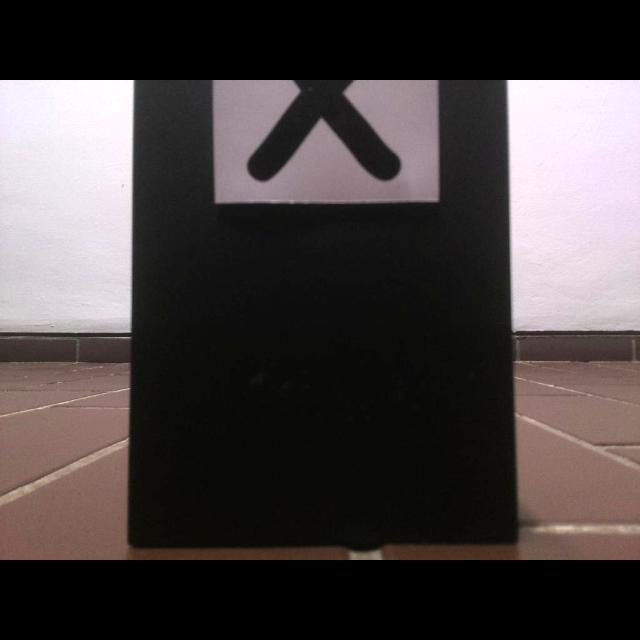X: (248, 80, 400, 181)
